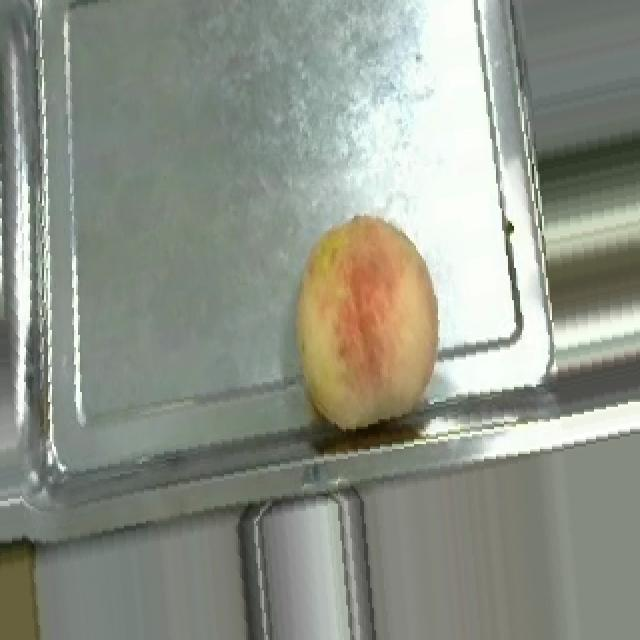Fruit: (274, 201, 462, 446), (226, 479, 384, 640), (0, 523, 72, 640)
